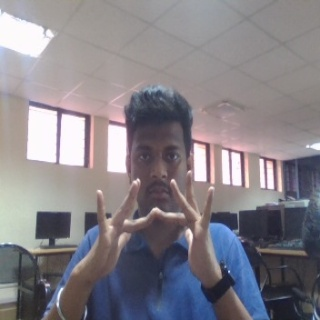Internet: (75, 168, 220, 292)
